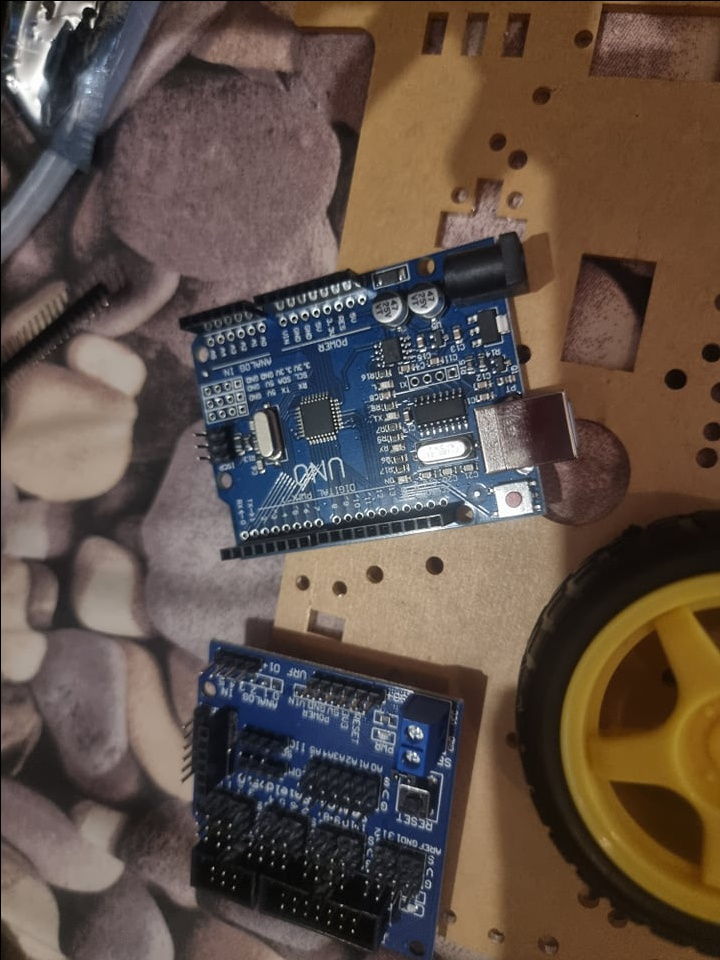5V EXPANSION: (185, 637, 463, 958)
UNO R3: (177, 228, 599, 559)
